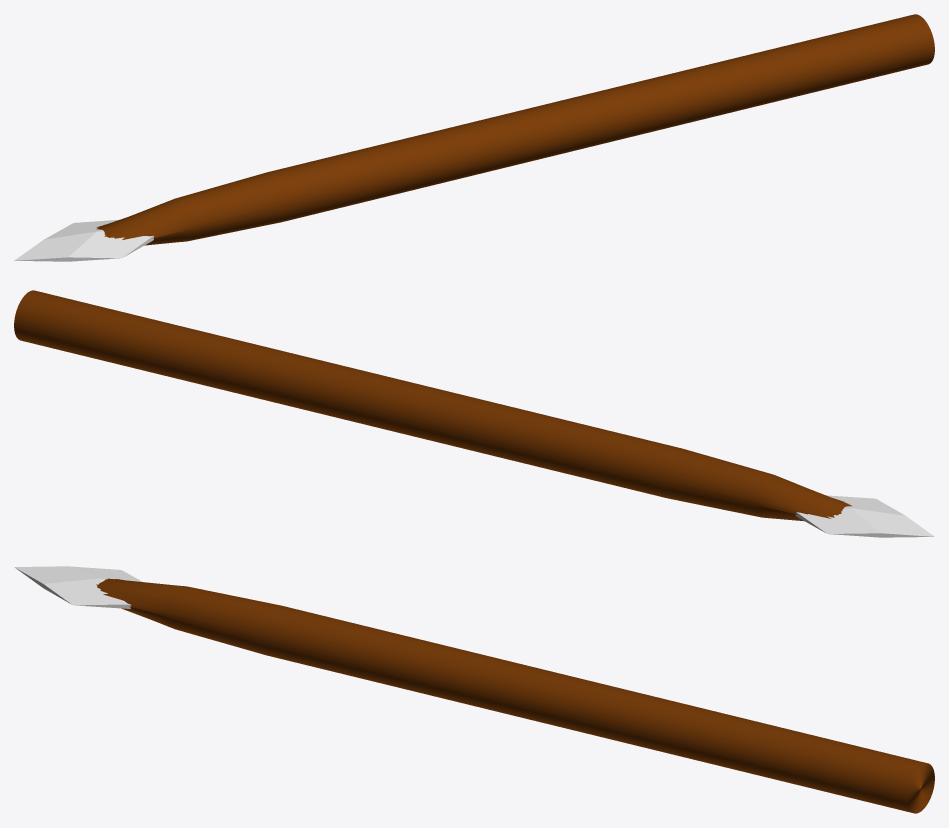
The model's file is spear.fbx.
The picture shows the model from 3 angles, top to bottom: view 1: azimuth 30°, elevation 25°; view 2: azimuth 150°, elevation 25°; view 3: azimuth 330°, elevation 25°; orthographic projection.
Visible parts, largest first — view 1: Cylinder, Cube; view 2: Cylinder, Cube; view 3: Cylinder, Cube.
Boxes of the visible parts, x1,y1,x2,y2 form: Cylinder: (96, 14, 934, 245); Cube: (14, 219, 153, 261); Cylinder: (14, 290, 851, 520); Cube: (795, 495, 934, 537); Cylinder: (96, 578, 934, 813); Cube: (14, 566, 142, 608).
Size of the model in its own units: 2180 by 106 by 201.
